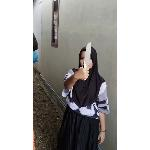Pisau: (80, 41, 96, 81)
